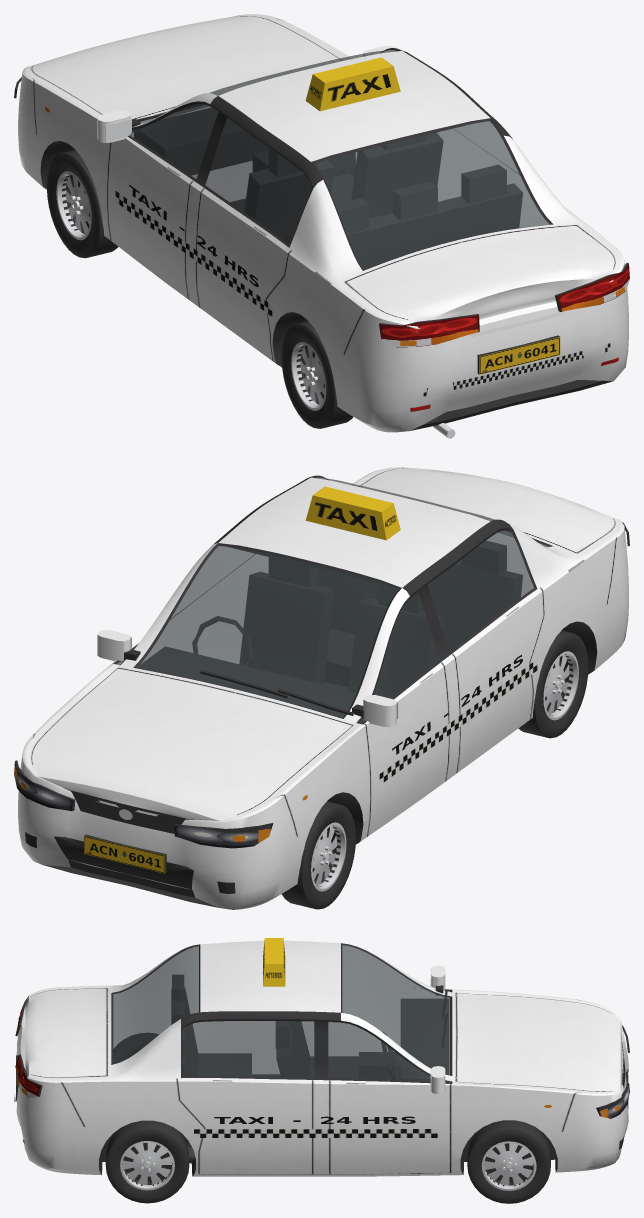
Rendered from taxi.glb.
3 renders of one model, top to bottom at view 1: azimuth 30°, elevation 25°; view 2: azimuth 150°, elevation 25°; view 3: azimuth 270°, elevation 25°, orthographic. The views are drawn at different scales.
Visible parts, largest first — view 1: body, wheel_fl_mesh, wheel_rl_mesh; view 2: body, wheel_fl_mesh, wheel_rl_mesh; view 3: body, wheel_fr_mesh, wheel_rr_mesh, wheel_rl_mesh.
Part boxes in pixels (box(x1,y1,x2,y2)): body: box(14, 14, 629, 438); wheel_fl_mesh: box(47, 150, 118, 258); wheel_rl_mesh: box(281, 321, 353, 428); body: box(14, 467, 629, 909); wheel_fl_mesh: box(282, 801, 355, 909); wheel_rl_mesh: box(518, 630, 588, 738); body: box(14, 938, 629, 1176); wheel_fr_mesh: box(467, 1120, 550, 1203); wheel_rr_mesh: box(105, 1120, 189, 1203); wheel_rl_mesh: box(113, 1033, 158, 1063).
Size of the model in its own units: 1.91 by 1.62 by 4.43.
12 materials, 6 textured.
